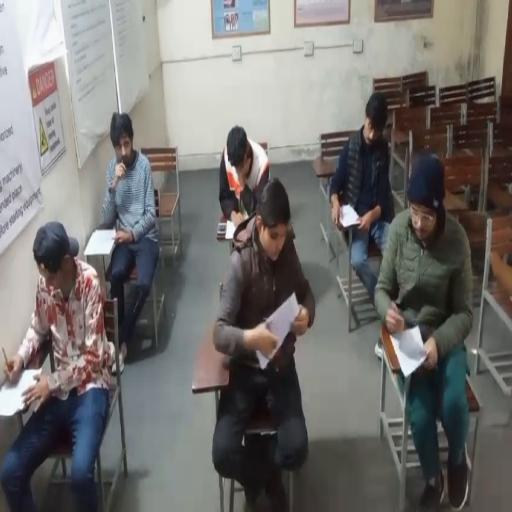paper: (388, 324, 428, 376), (0, 368, 42, 417), (263, 292, 299, 345), (84, 229, 117, 258), (338, 204, 361, 228), (255, 345, 276, 371), (224, 220, 236, 239)
